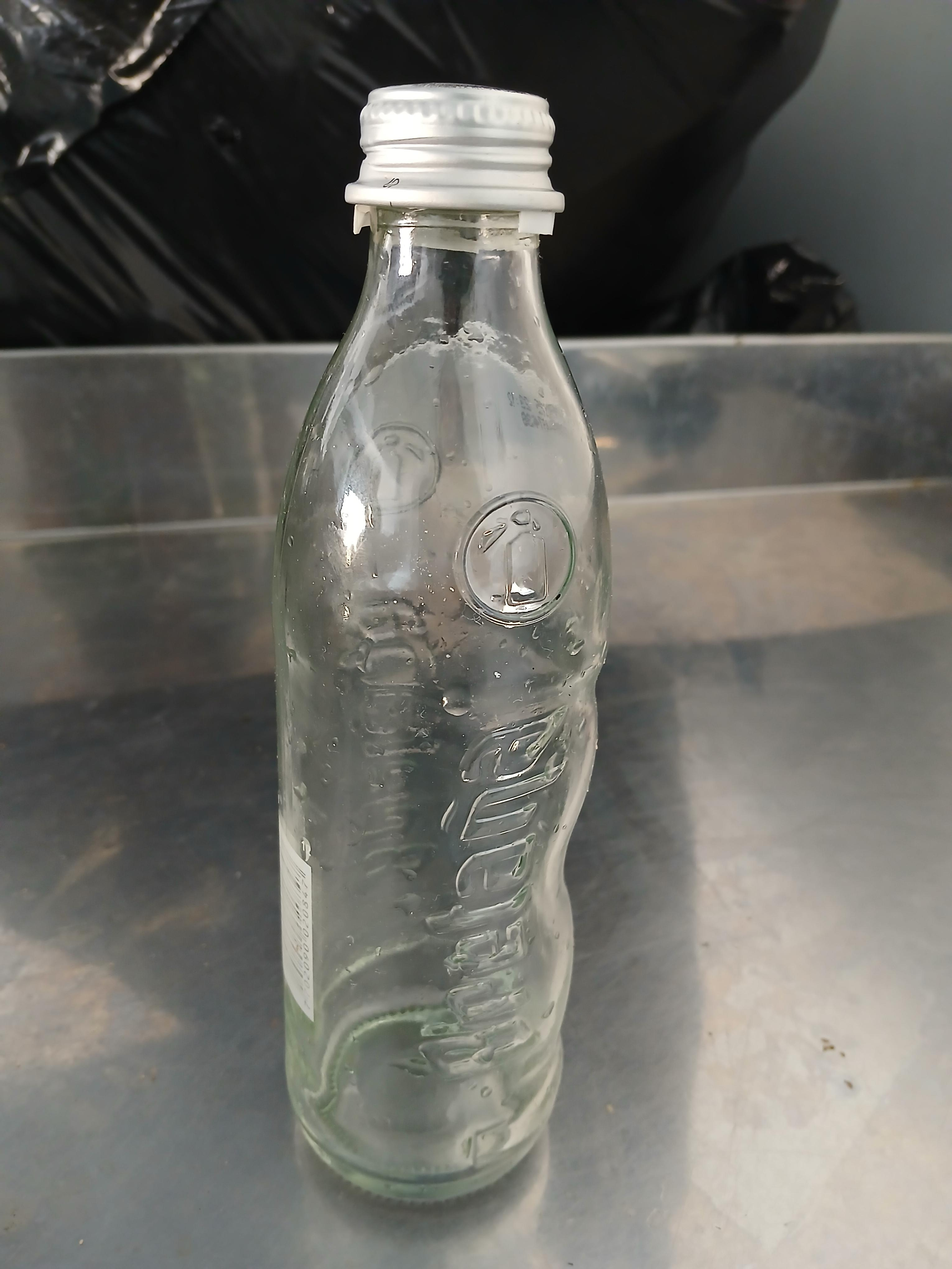Metal: (345, 81, 563, 212)
Vidrio: (276, 218, 614, 1205)
